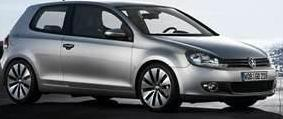front_view: (176, 41, 277, 104)
headlight: (186, 47, 229, 74)
side_glass: (35, 4, 130, 41)
